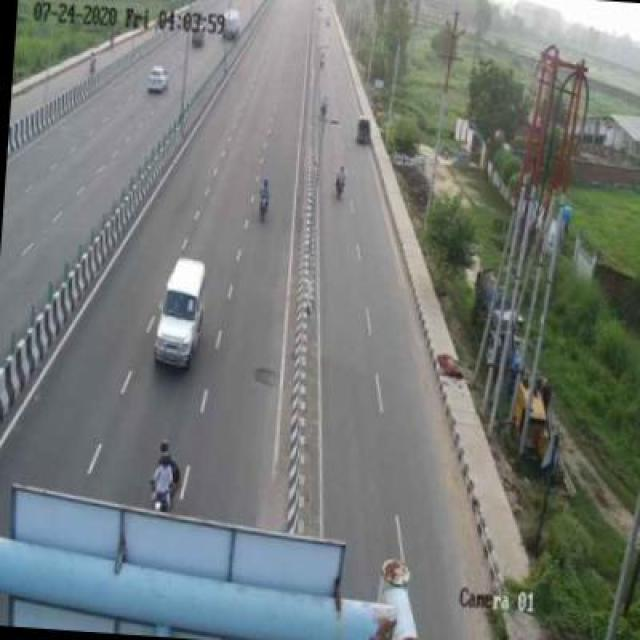car: (142, 248, 213, 371)
